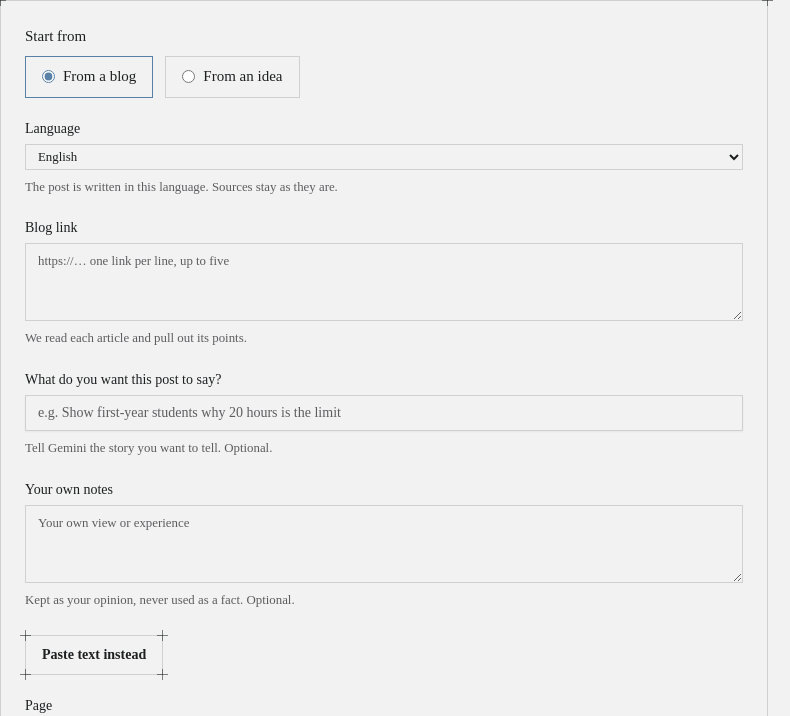
opens the text box with its title on "Paste text instead"
This screenshot has width=790, height=716.
Check: the field labelled "Title" is not shown
Click the button "Paste text instead" at (94, 655), box left=25, top=635, right=163, bottom=675
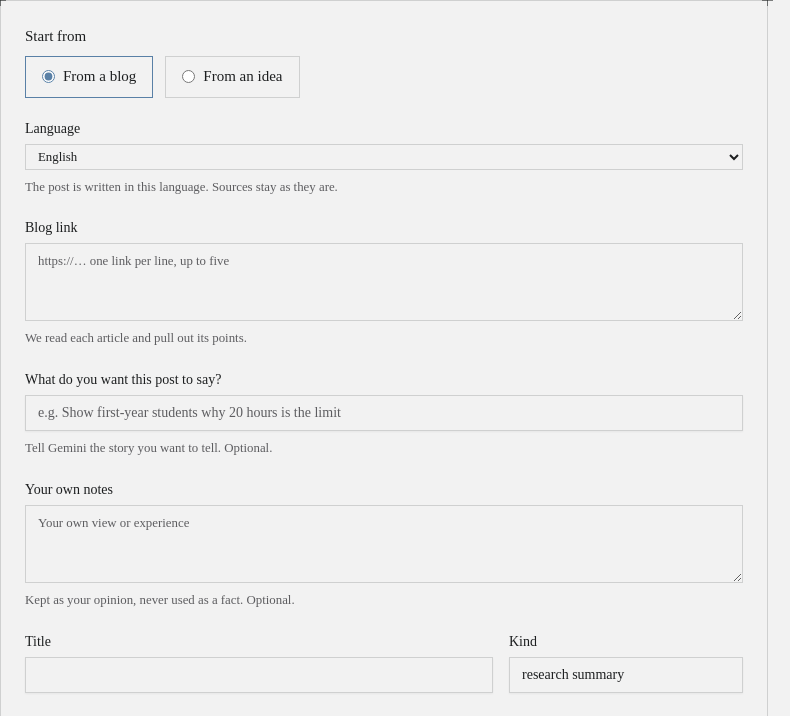
Check: the field labelled "Title" is shown, box left=25, top=657, right=493, bottom=693
Check: the field labelled "Kind" holds "research summary", box left=509, top=657, right=743, bottom=693
